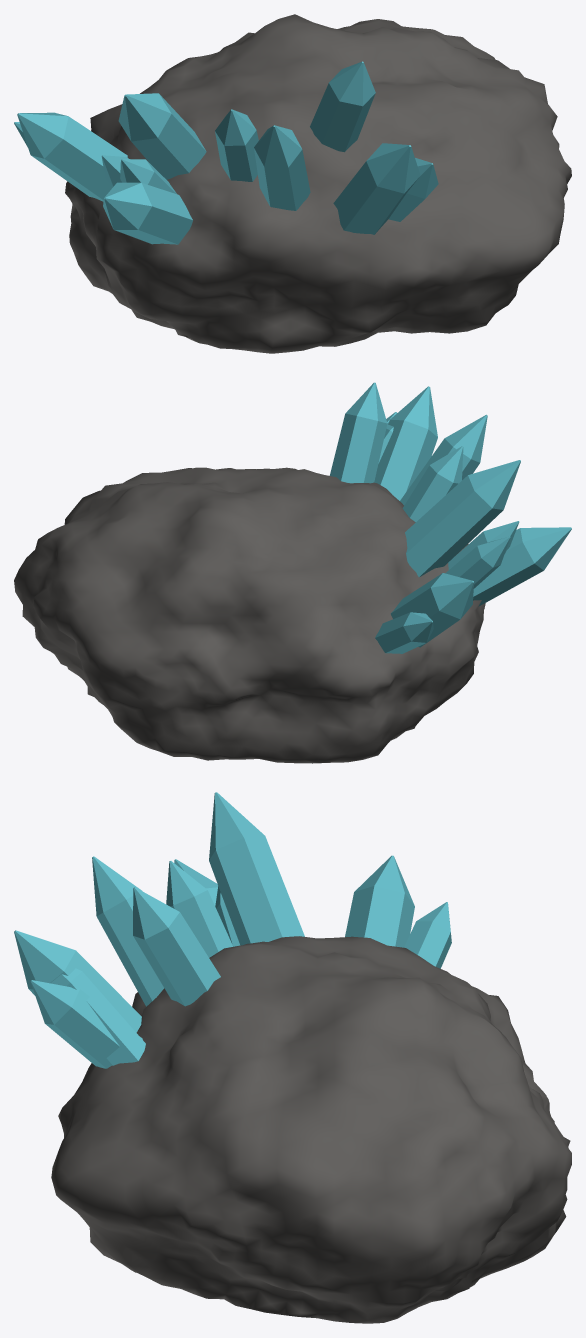
The model's file is apatite_deep.glb.
3 renders of one model, top to bottom at view 1: azimuth 30°, elevation 25°; view 2: azimuth 150°, elevation 25°; view 3: azimuth 270°, elevation 25°, orthographic. The views are drawn at different scales.
Visible parts, largest first — view 1: apatite_deep; view 2: apatite_deep; view 3: apatite_deep.
Boxes of the visible parts, left/top/right/bottom form: apatite_deep: left=14, top=14, right=571, bottom=353; apatite_deep: left=14, top=382, right=571, bottom=763; apatite_deep: left=14, top=792, right=571, bottom=1323.
Bounding box in the file's own units: 2.05 × 1.1 × 1.75.
